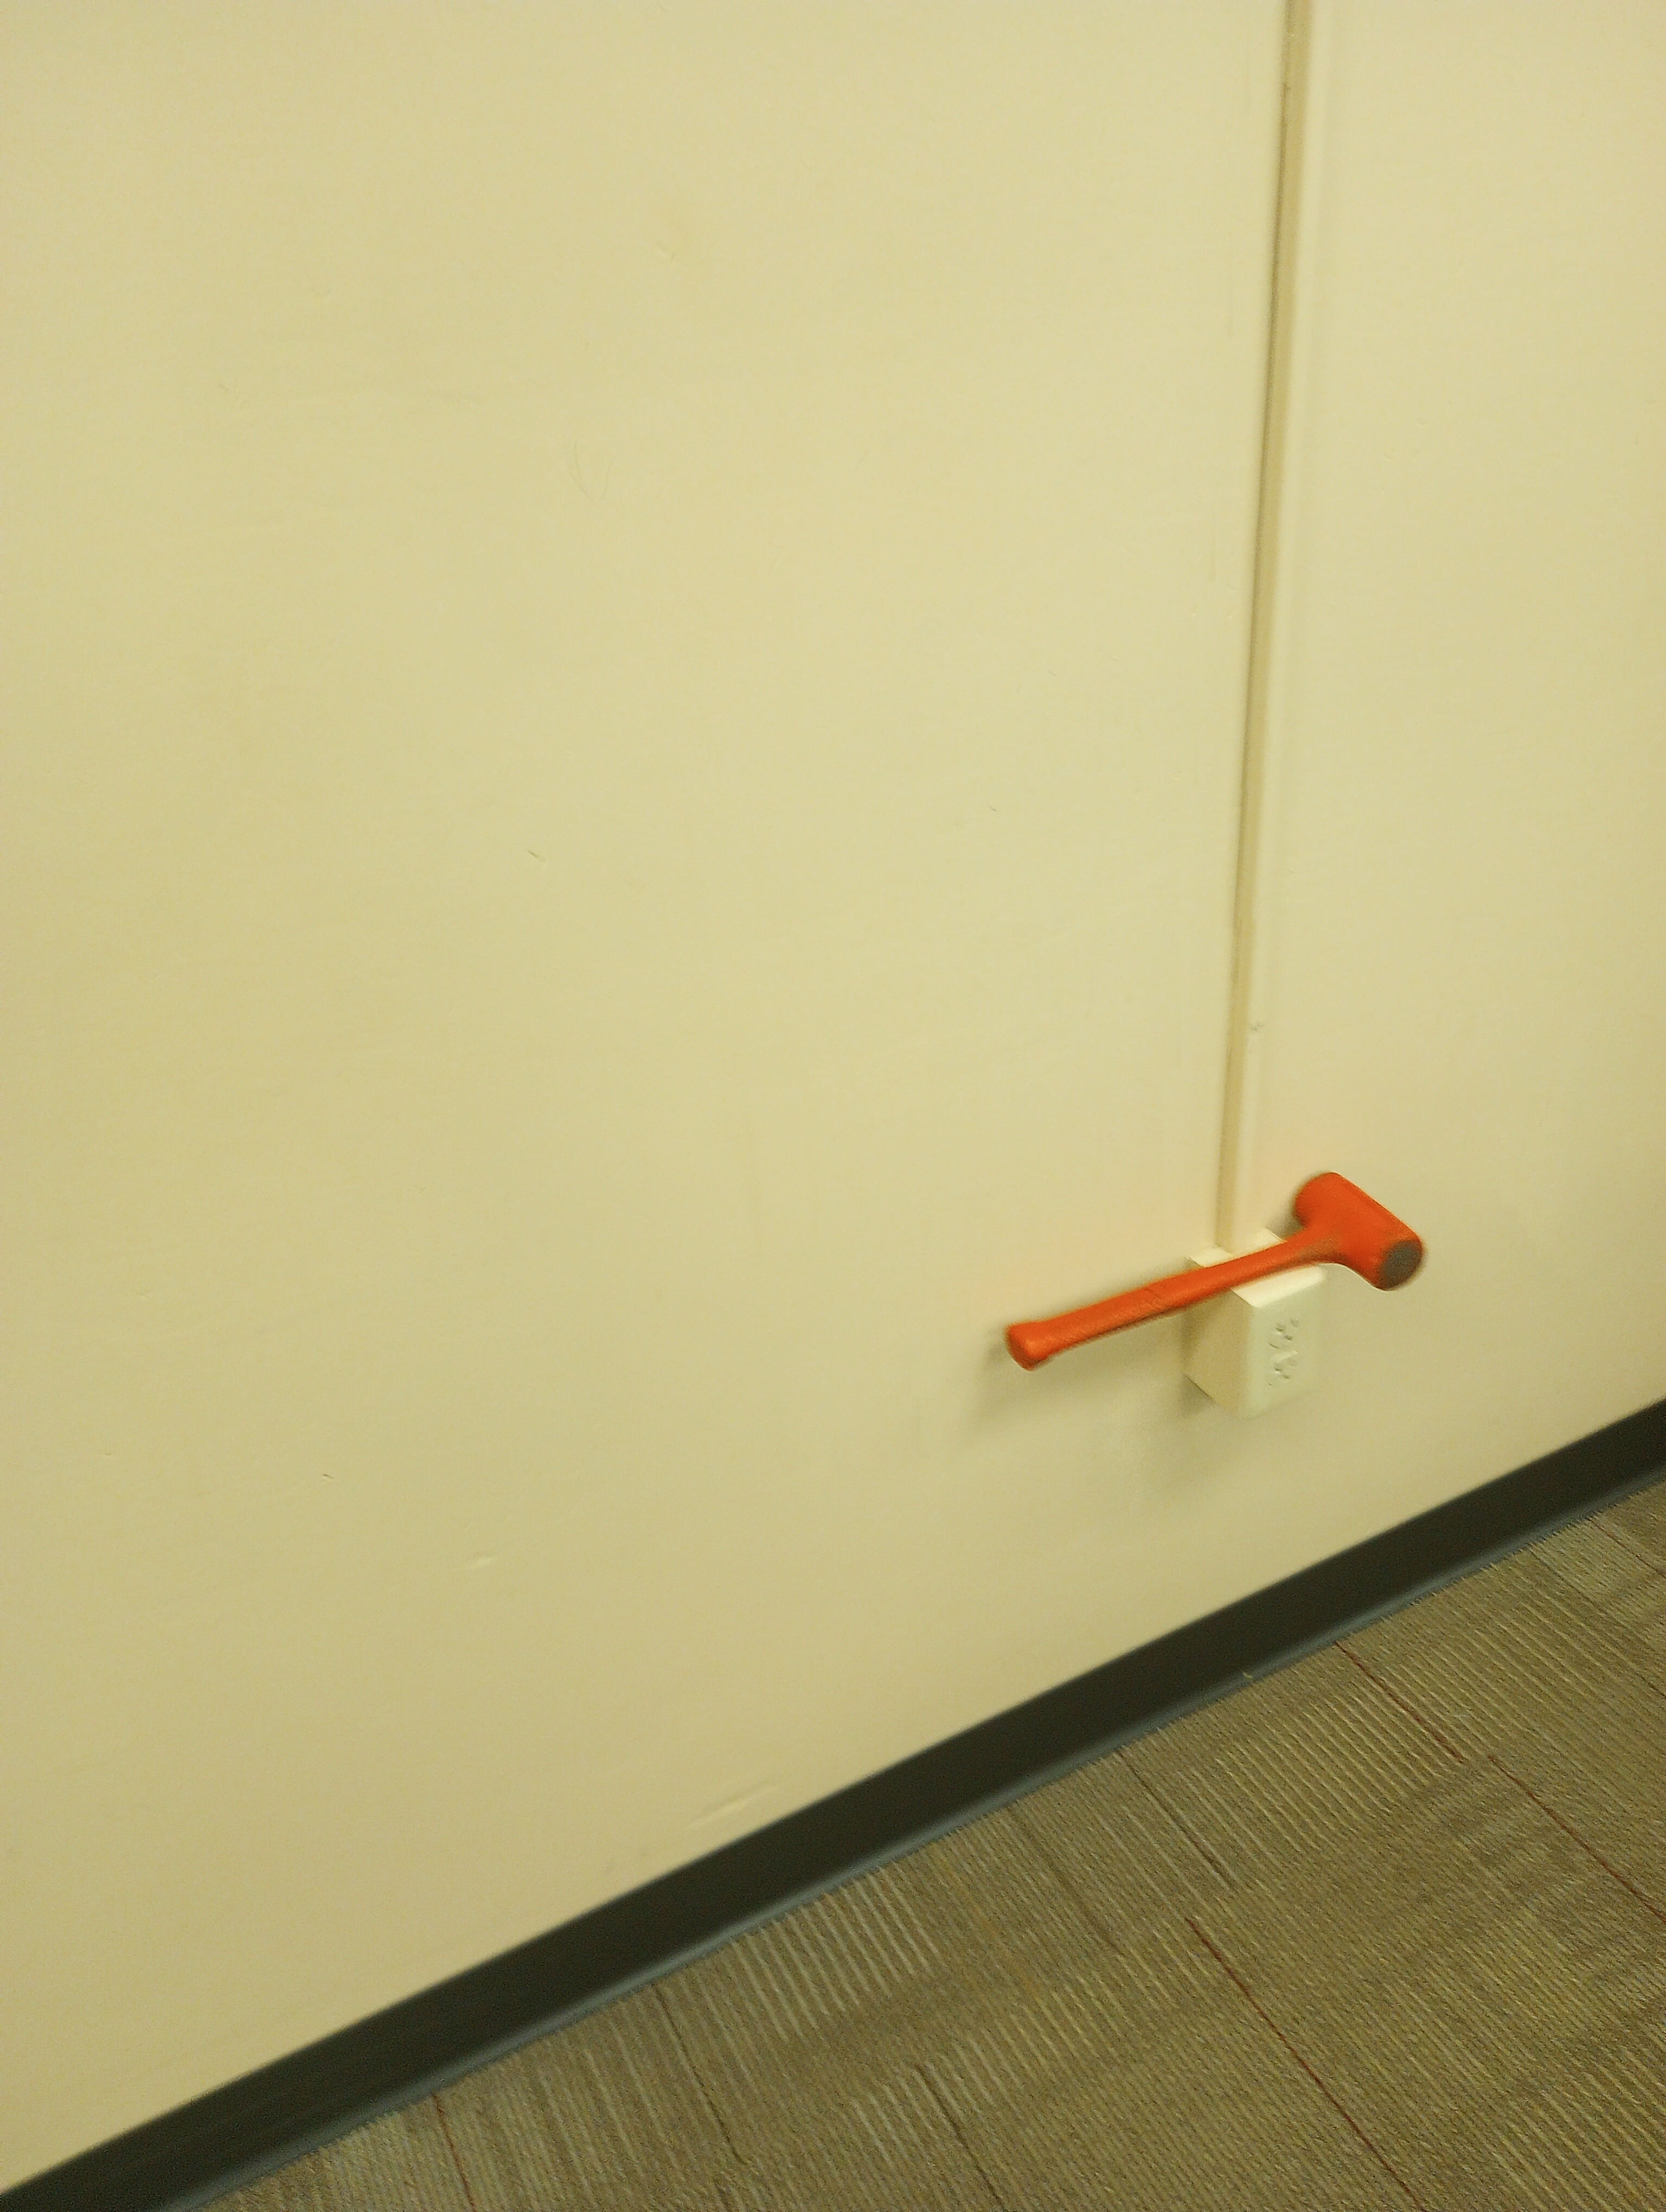bottle: (1001, 1163, 1428, 1376)
